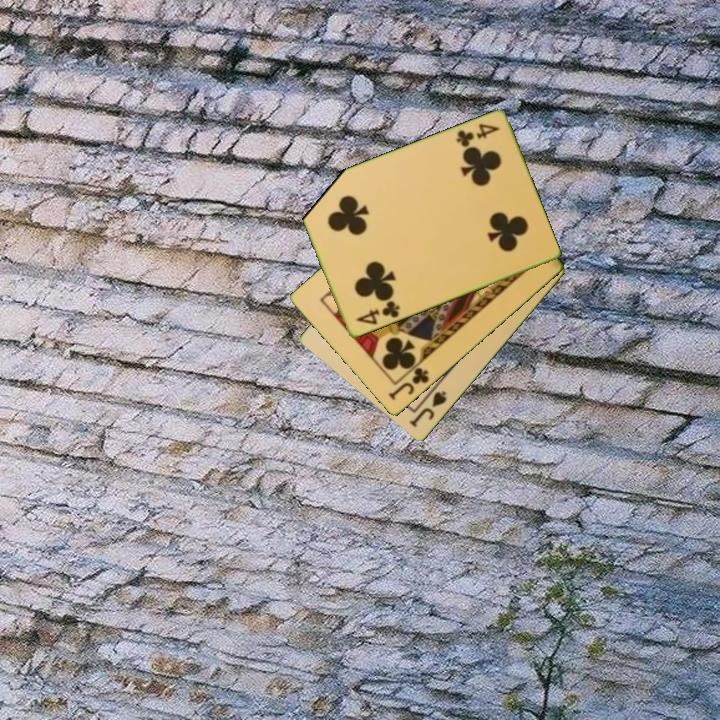4c: (352, 297, 402, 328), (452, 120, 502, 151)
Jc: (385, 364, 432, 404)
Js: (406, 388, 450, 431)
